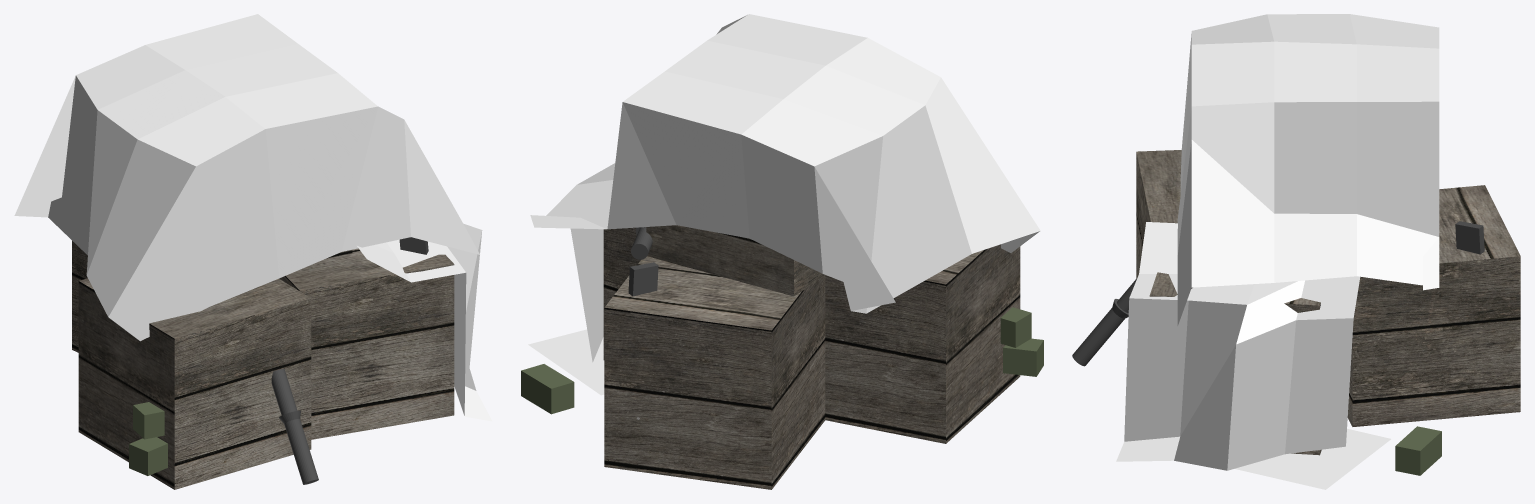
File: weapons_cache.glb
3 renders of one model, left to right at view 1: azimuth 30°, elevation 25°; view 2: azimuth 150°, elevation 25°; view 3: azimuth 270°, elevation 25°, orthographic. The views are drawn at different scales.
Visible parts, largest first — view 1: CamoTarp, Crate1, Crate2, BurlapWrap1, RPGRound2, AmmoBox1, AmmoBox2, Crate3; view 2: CamoTarp, Crate3, Crate1, Crate4_Top, BurlapWrap1, BurlapSack2, AmmoBox3, Crate2, AmmoBox1, AmmoBox2, AKMag4; view 3: CamoTarp, BurlapWrap1, Crate3, BurlapSack2, Crate1, AmmoBox3, RPGRound2, Crate2, AKMag4.
Part boxes in pixels (x1,y1,x2,y2): CamoTarp: (14,14,479,341); Crate1: (78,278,311,489); Crate2: (279,248,454,439); BurlapWrap1: (357,223,492,421); RPGRound2: (271,369,318,484); AmmoBox1: (129,437,167,475); AmmoBox2: (133,402,164,439); Crate3: (72,241,87,352); CamoTarp: (530,14,1040,313); Crate3: (604,256,825,489); Crate1: (825,244,1020,443); Crate4_Top: (646,225,825,296); BurlapWrap1: (570,228,603,362); BurlapSack2: (528,329,604,395); AmmoBox3: (521,364,574,414); Crate2: (603,227,640,359); AmmoBox1: (1003,338,1043,376); AmmoBox2: (1000,307,1031,347); AKMag4: (628,262,658,296); CamoTarp: (1177,14,1439,325); BurlapWrap1: (1116,222,1360,470); Crate3: (1347,185,1520,426); BurlapSack2: (1234,428,1390,489); Crate1: (1136,150,1181,278); AmmoBox3: (1395,426,1441,475); RPGRound2: (1072,277,1137,366); Crate2: (1149,272,1321,455); AKMag4: (1455,221,1484,254).
Bounding box in the file's own units: 1.45 × 1.05 × 1.3.
Materials: 4 (1 with a texture image).
